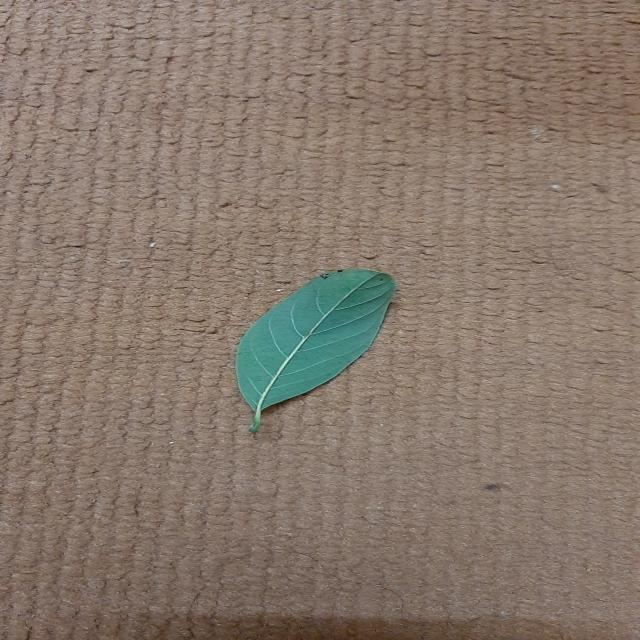seethaphala: (241, 270, 393, 429)
